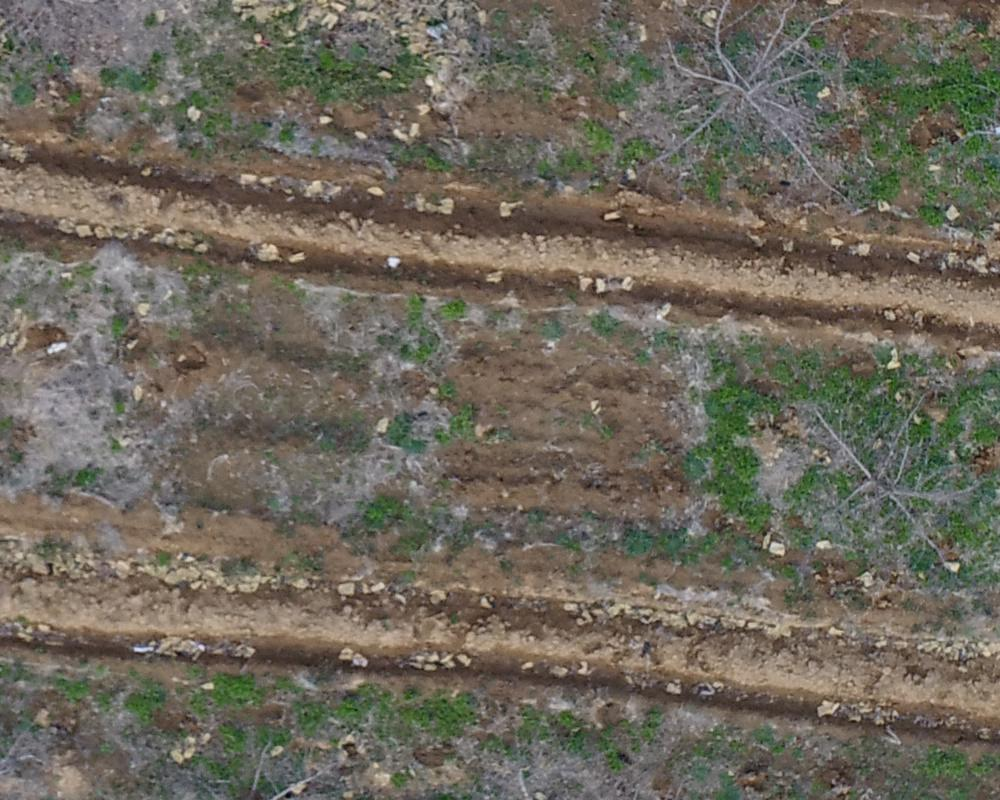apple: (585, 10, 882, 215), (748, 370, 990, 570), (145, 717, 366, 790)
